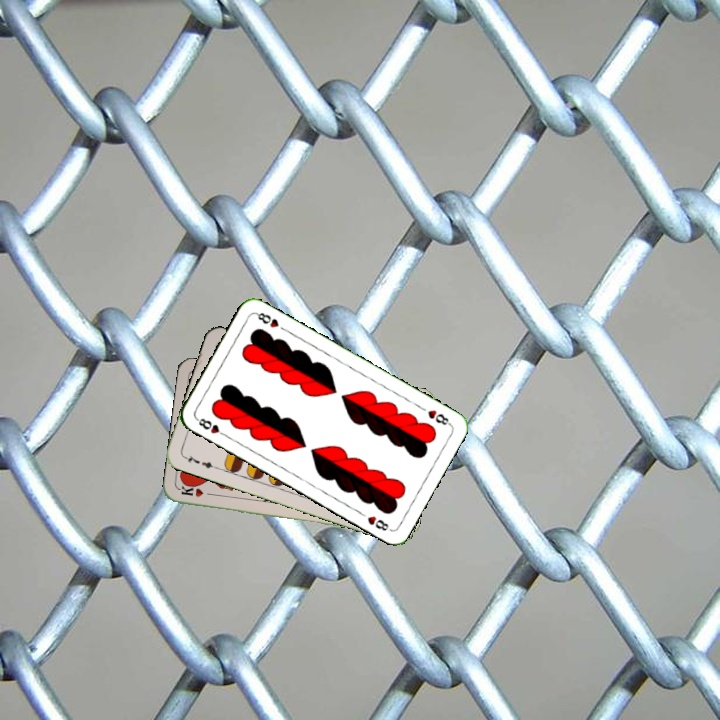E7: (180, 451, 219, 471)
H8: (192, 414, 230, 439), (423, 406, 453, 428)
HK: (177, 482, 217, 500)
